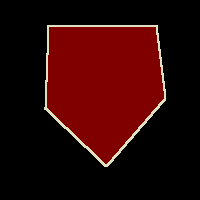tie: (45, 25, 165, 166)
